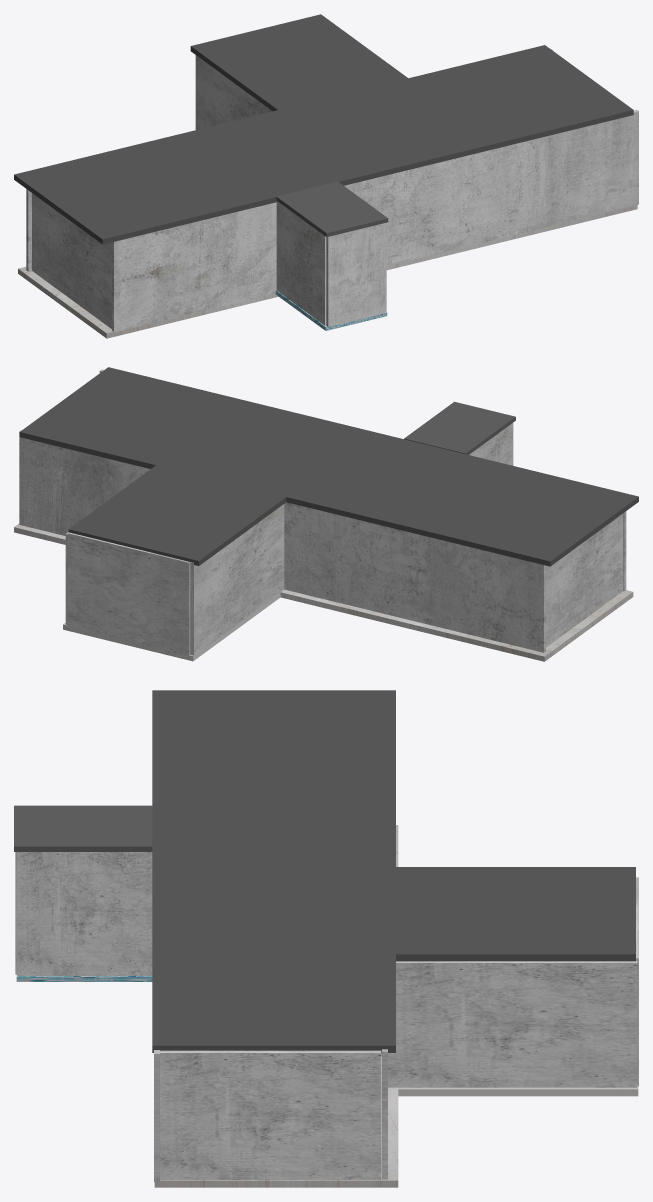
Rendered from rumaH.fbx.
3 views of the same model, one above another, from view 1: azimuth 30°, elevation 25°; view 2: azimuth 150°, elevation 25°; view 3: azimuth 270°, elevation 25° (orthographic). The views are drawn at different scales.
Visible parts, largest first — view 1: lantai.001, tembok-kiri, tembok-depan.001, tembok-kamarmandi, tembok-kamar-mandi, lantai-kamarmandi.001, lantai, tembok-kamar, lantai-kamarmandi, tembok-kanan; view 2: lantai.001, tembok-kanan, tembok-kamar.002, tembok-kamar, tembok-depan.001, lantai, lantai-kamarmandi.001, tembok-kamar-mandi; view 3: lantai.001, tembok-kamar.001, tembok-depan, tembok-kamarmandi.001, lantai-kamarmandi.001, lantai, lantai-kamarmandi, tembok-kiri, tembok-kanan.
Part boxes in pixels (bbox=[...]): lantai.001: bbox=[14, 14, 633, 244]; tembok-kiri: bbox=[112, 109, 638, 332]; tembok-depan.001: bbox=[32, 193, 111, 328]; tembok-kamarmandi: bbox=[326, 223, 384, 326]; tembok-kamar-mandi: bbox=[276, 201, 326, 325]; lantai-kamarmandi.001: bbox=[276, 181, 388, 236]; lantai: bbox=[18, 205, 637, 338]; tembok-kamar: bbox=[195, 55, 272, 129]; lantai-kamarmandi: bbox=[275, 290, 387, 330]; tembok-kanan: bbox=[26, 49, 553, 271]; lantai.001: bbox=[19, 367, 638, 566]; tembok-kanan: bbox=[19, 430, 545, 652]; tembok-kamar.002: bbox=[68, 532, 190, 655]; tembok-kamar: bbox=[190, 504, 284, 655]; tembok-depan.001: bbox=[546, 513, 623, 647]; lantai: bbox=[14, 523, 633, 661]; lantai-kamarmandi.001: bbox=[404, 401, 515, 454]; tembok-kamar-mandi: bbox=[469, 423, 512, 465]; lantai.001: bbox=[152, 690, 635, 1052]; tembok-kamar.001: bbox=[388, 961, 637, 1087]; tembok-depan: bbox=[160, 1050, 381, 1179]; tembok-kamarmandi.001: bbox=[17, 852, 152, 975]; lantai-kamarmandi.001: bbox=[14, 805, 152, 851]; lantai: bbox=[154, 825, 638, 1187]; lantai-kamarmandi: bbox=[16, 975, 152, 981]; tembok-kiri: bbox=[154, 1050, 159, 1182]; tembok-kanan: bbox=[382, 1049, 387, 1179].
Size of the model in its own units: 6245 by 1130 by 4587.
19 materials, 13 textured.
